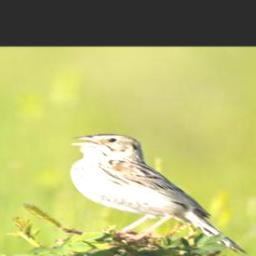Sparrow: (77, 133, 256, 256)
